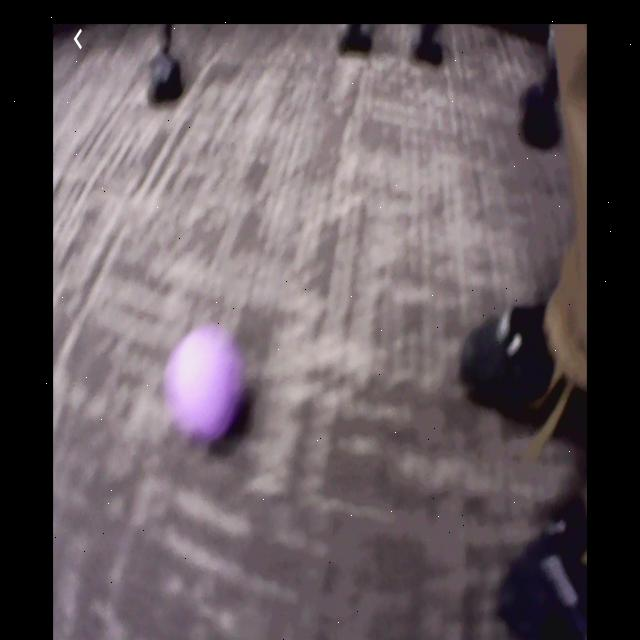ball: (170, 327, 238, 439)
